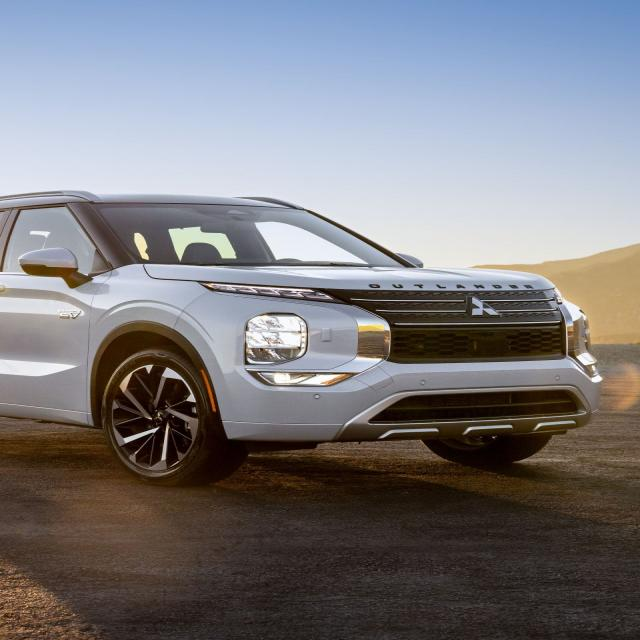car: (0, 124, 616, 499)
